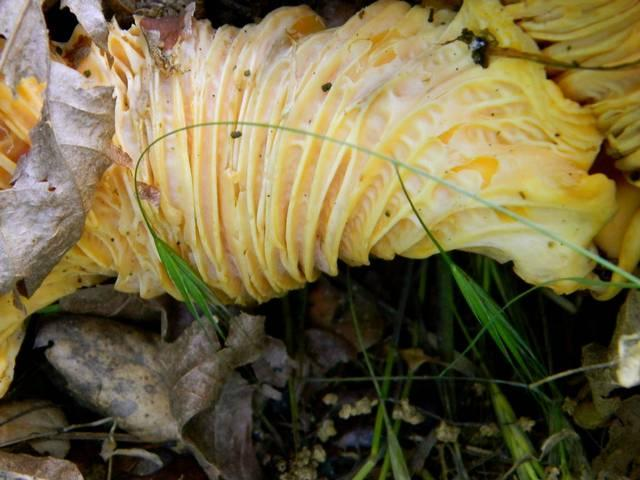edible_mushroom: (87, 0, 621, 307)
